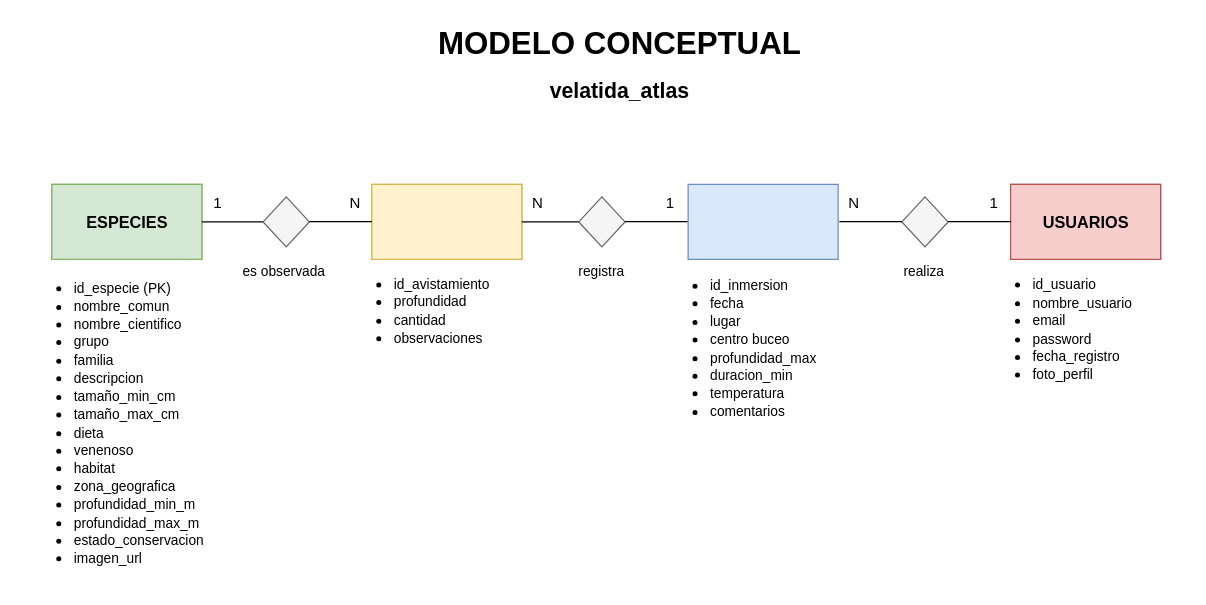
Image size: 1206x605. Some labels were removed from this diagram. Each missing label, with the centre of its shape:
AVISTAMIENTOS: (446,221)
INMERSIONES: (762,221)
